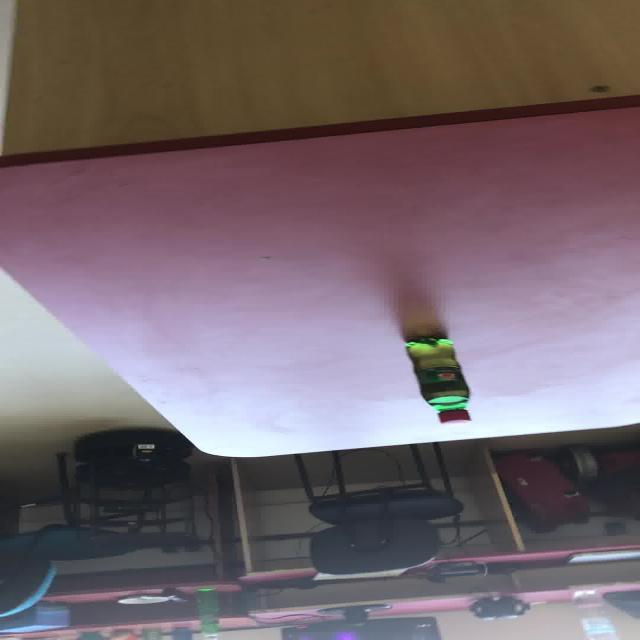guarana: (402, 336, 471, 423)
